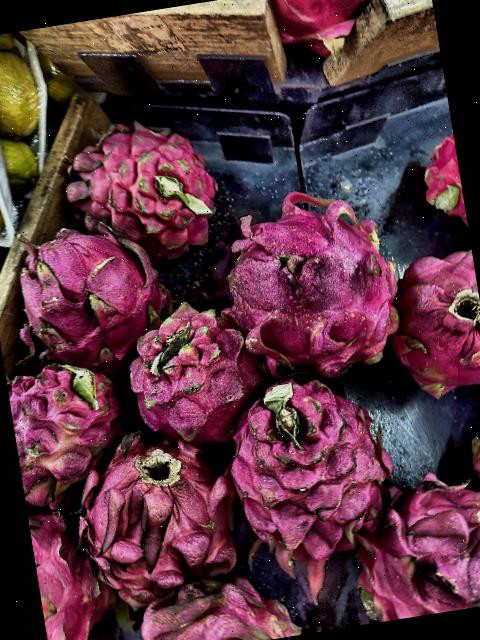buah-naga-matang: (214, 186, 410, 381), (226, 367, 400, 570), (72, 430, 250, 606), (56, 105, 233, 264), (12, 212, 172, 368), (338, 454, 480, 624), (116, 290, 266, 448), (4, 347, 133, 508), (378, 233, 480, 405), (121, 566, 305, 640), (26, 498, 114, 640)
